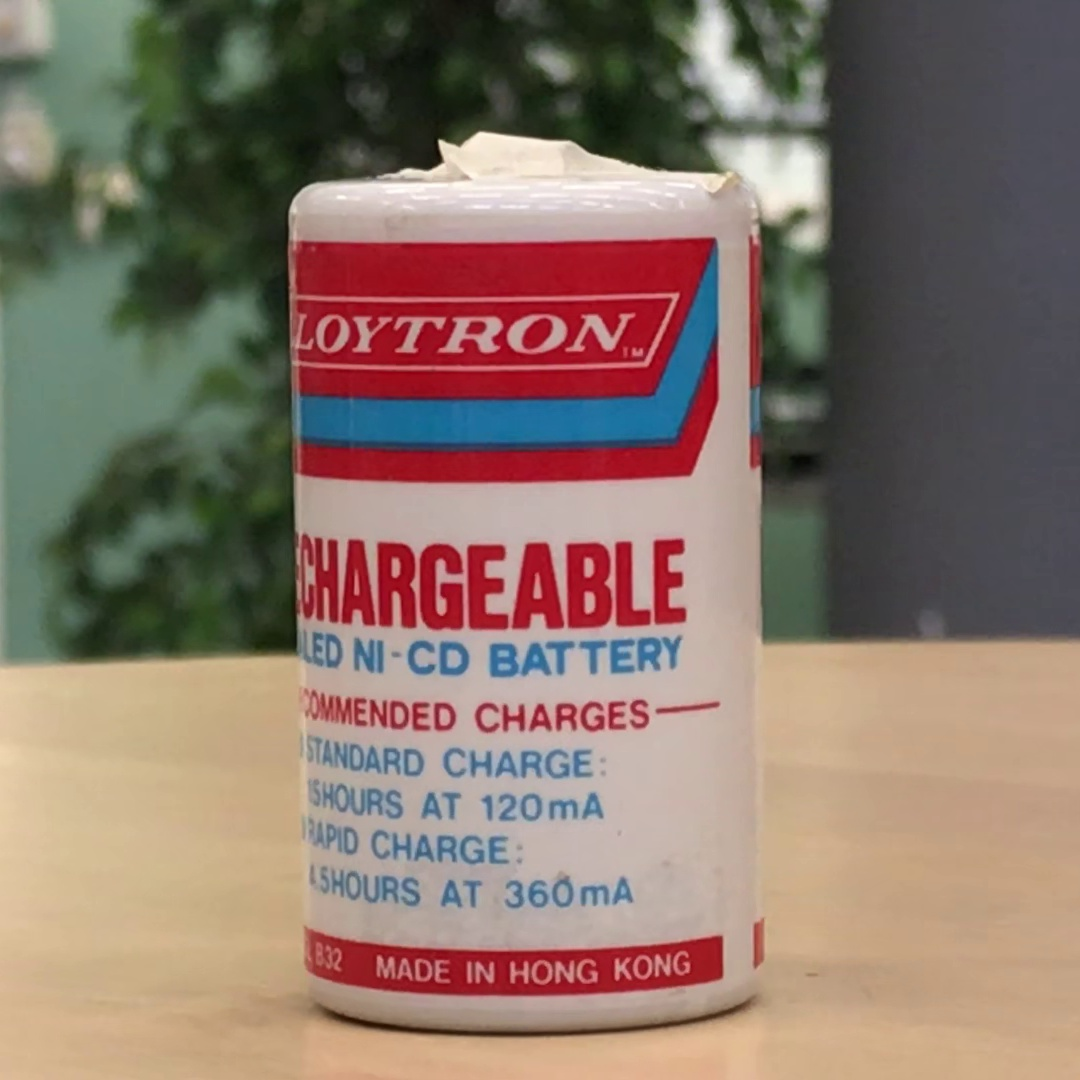keyword: (344, 631, 479, 683)
